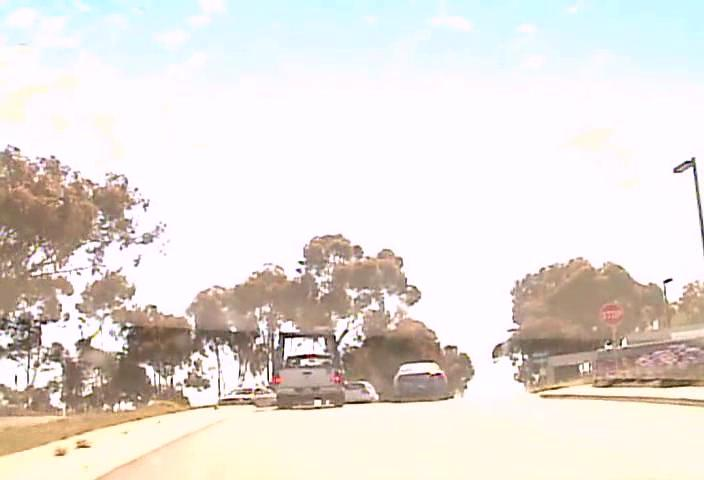stop: (598, 302, 624, 327)
